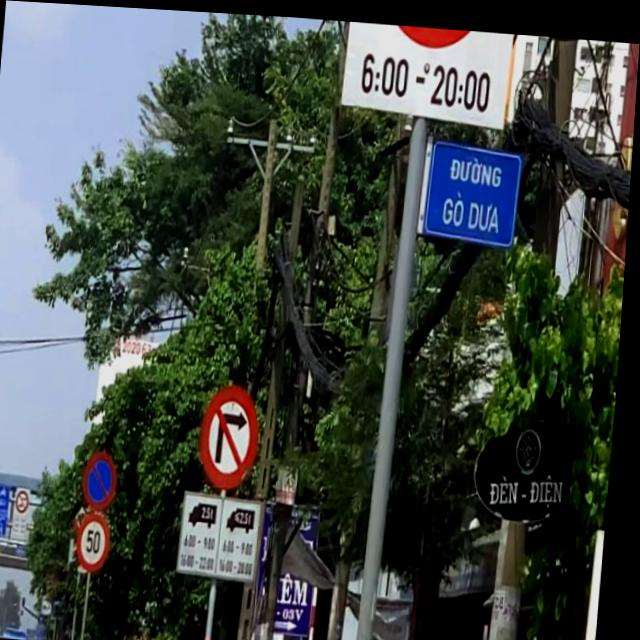Cam do xe: (87, 448, 131, 508)
Cam re phai: (202, 376, 269, 494)
Toc do toi da cho phep: (82, 509, 124, 574)
